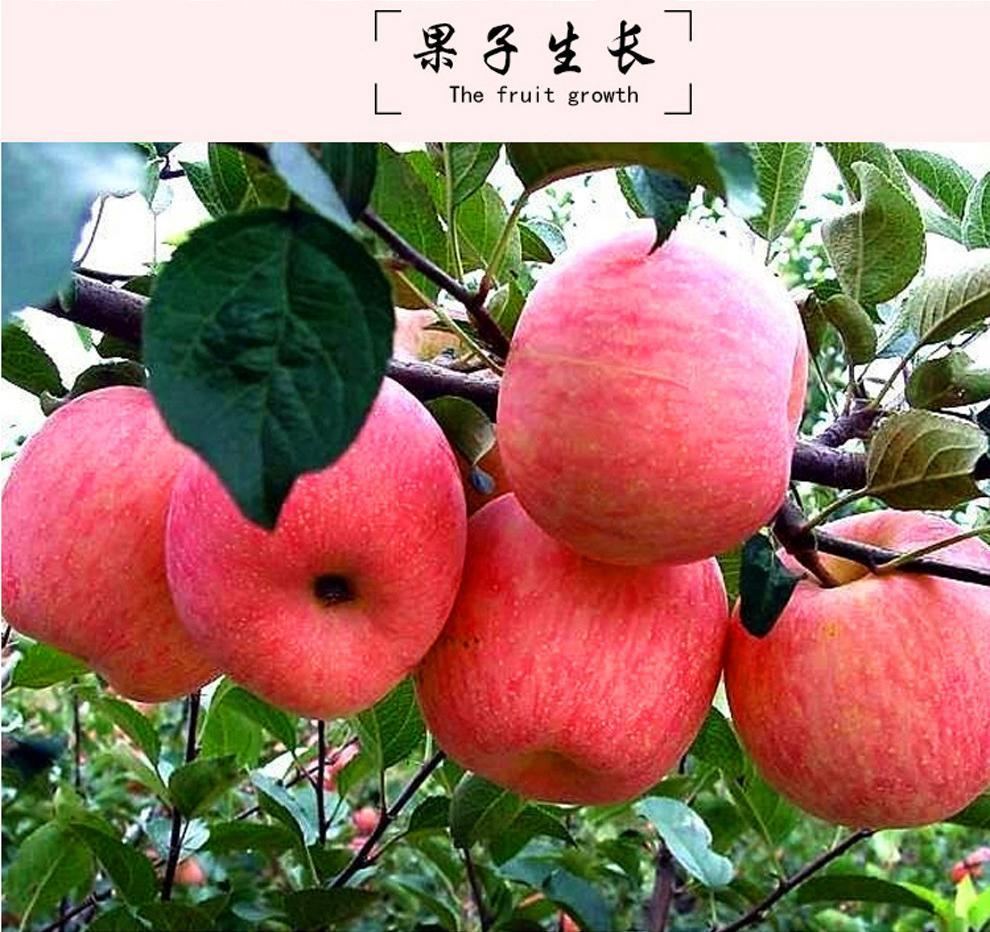apple: (17, 388, 479, 748), (522, 220, 835, 572), (451, 489, 764, 815), (754, 539, 990, 832), (172, 853, 222, 892), (174, 855, 207, 884)
